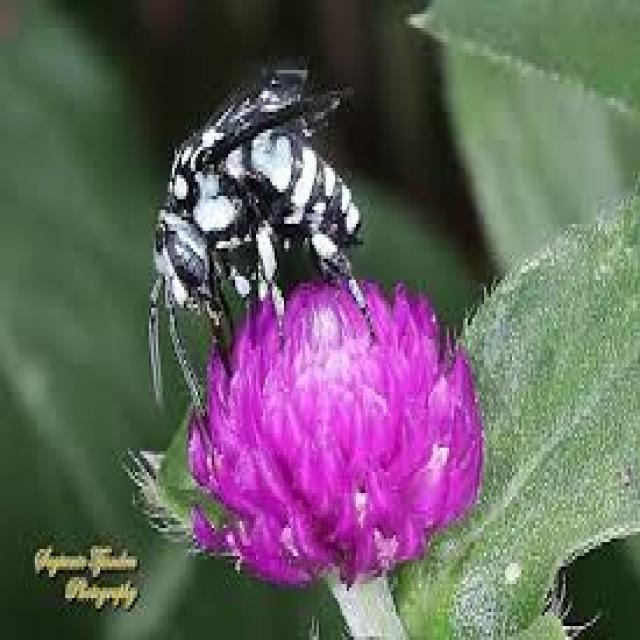Thyreus: (121, 46, 396, 397)
